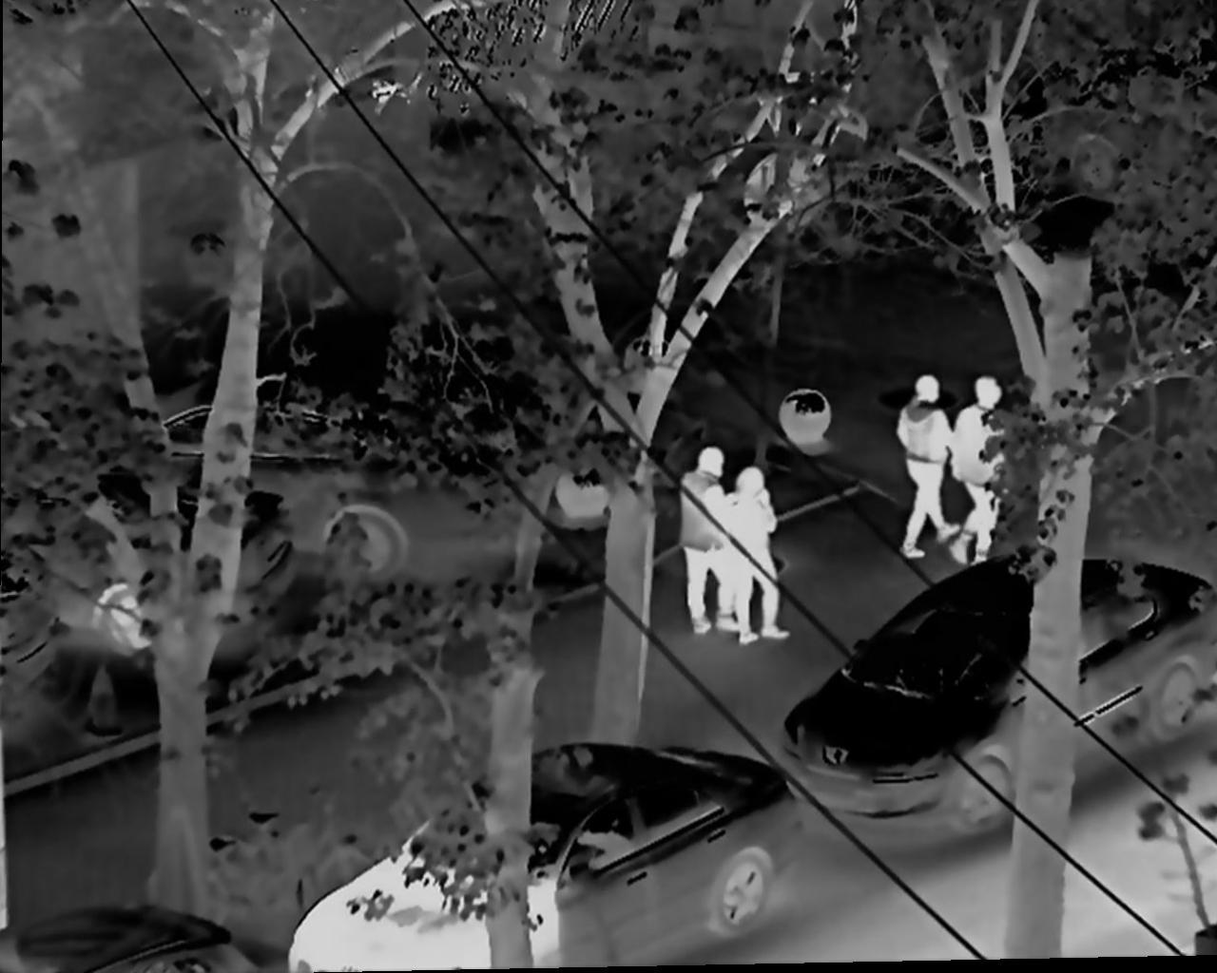person: (891, 368, 961, 562), (718, 464, 793, 642), (679, 439, 734, 635), (953, 378, 1005, 570)
